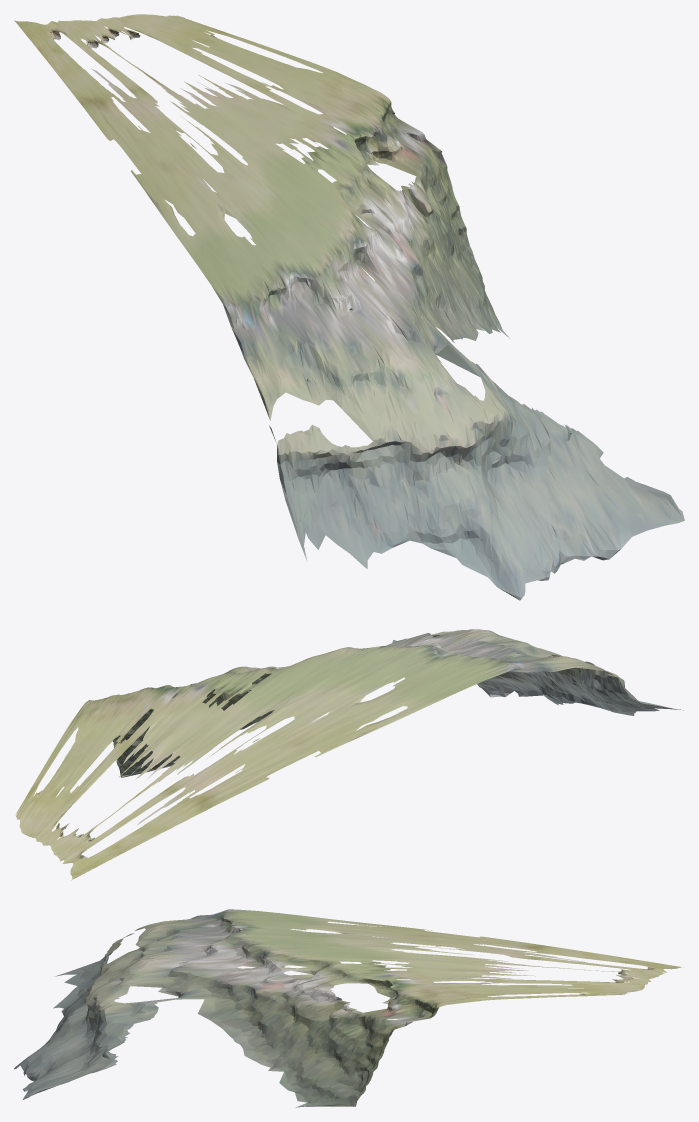
Rendered from render_lod2.glb.
The picture shows the model from 3 angles, top to bottom: view 1: azimuth 30°, elevation 25°; view 2: azimuth 150°, elevation 25°; view 3: azimuth 270°, elevation 25°; orthographic projection. The views are drawn at different scales.
Parts seen in each view (by area): view 1: geometry_0; view 2: geometry_0; view 3: geometry_0.
Part boxes in pixels (<box>): geometry_0: <box>14,14,684,600</box>; geometry_0: <box>15,629,683,880</box>; geometry_0: <box>14,909,681,1107</box>.
Size of the model in its own units: 0.5871 by 0.281 by 1.31.
